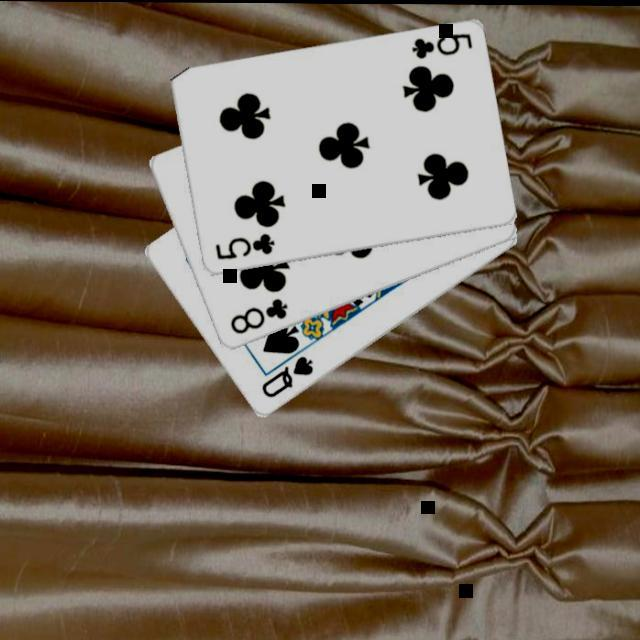5C: (214, 228, 279, 261), (410, 27, 477, 59)
8C: (229, 293, 293, 335)
QS: (260, 351, 318, 399)
